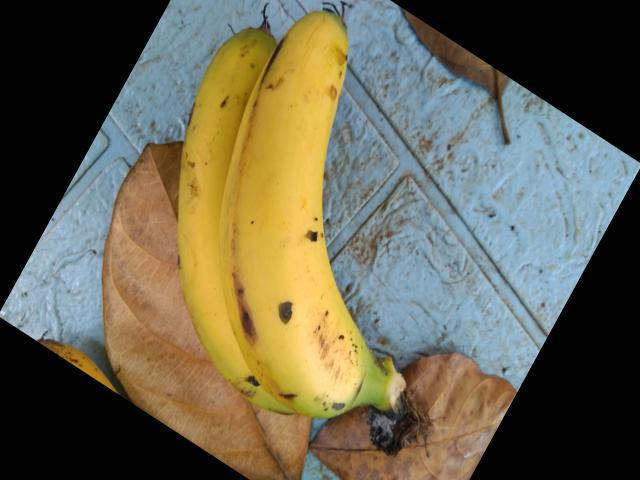ripe: (207, 8, 404, 430)
